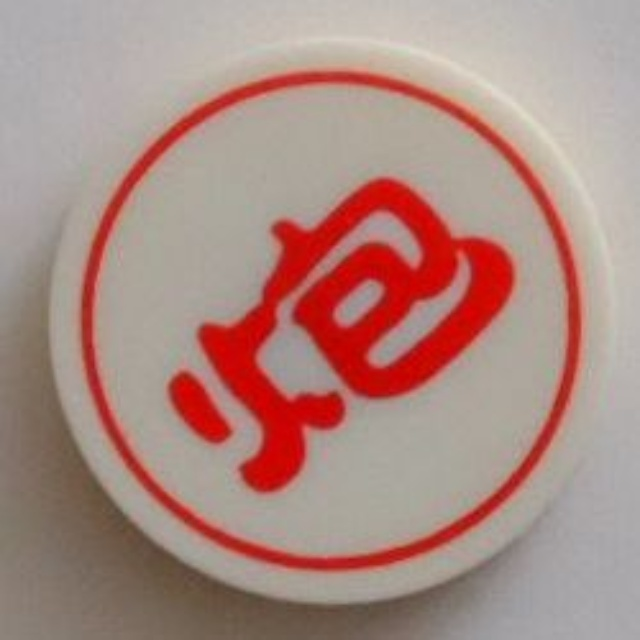red_phao: (42, 33, 623, 608)
